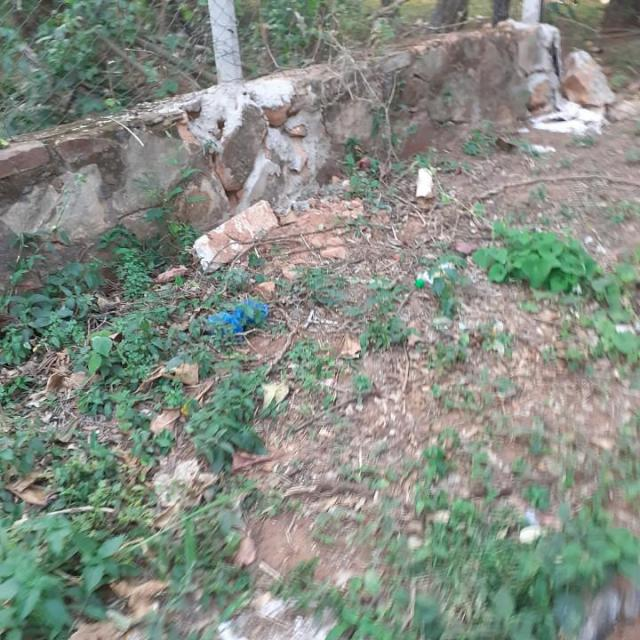litter: (162, 138, 503, 391)
